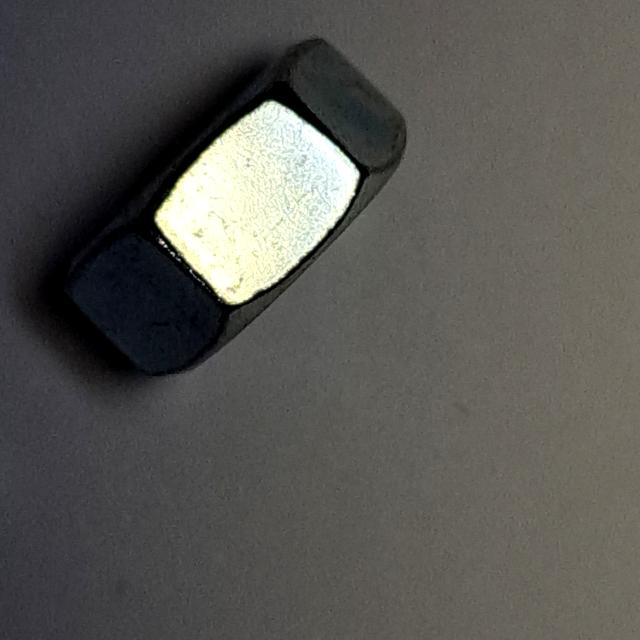Side_Excellent: (34, 17, 446, 393)
